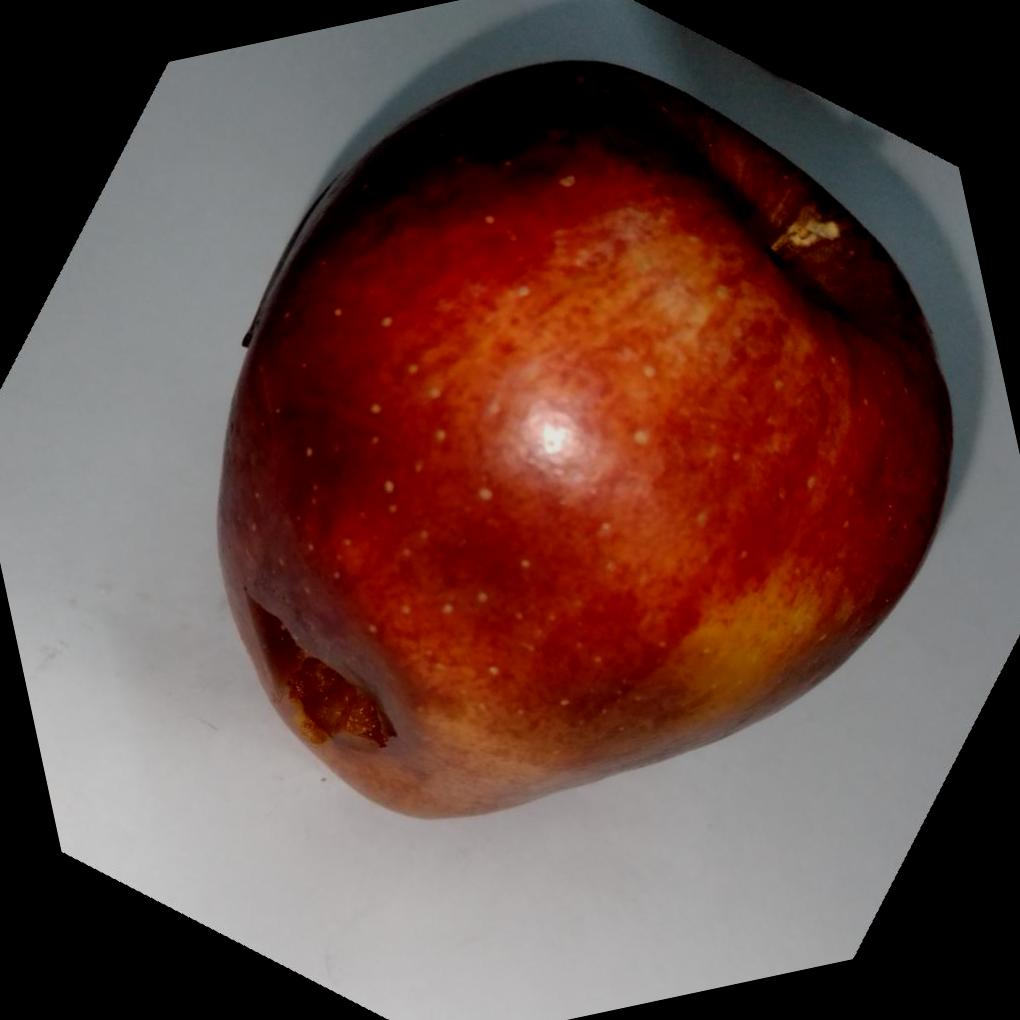FreshOrange: (215, 60, 954, 825)
